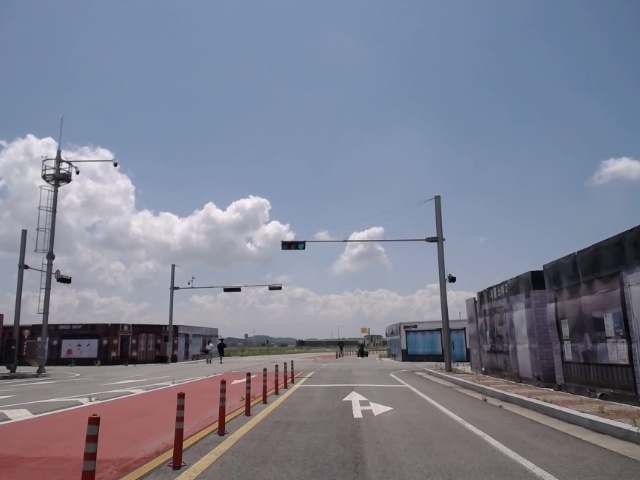green_3: (282, 241, 304, 250)
